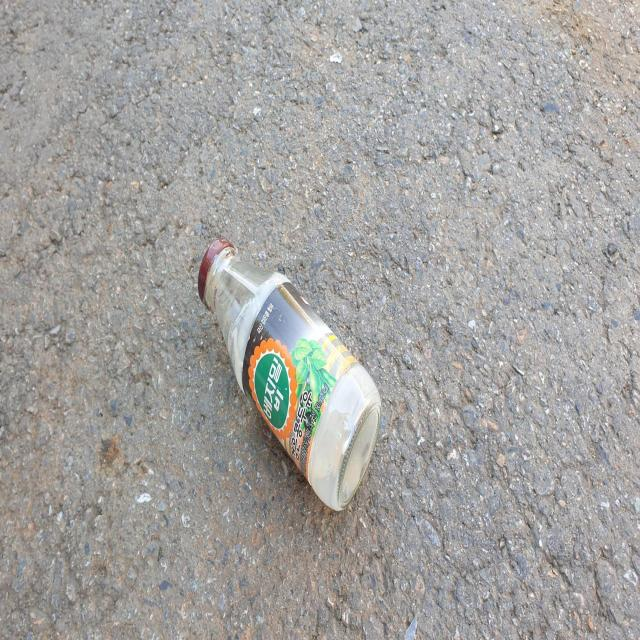glass: (198, 238, 381, 511)
